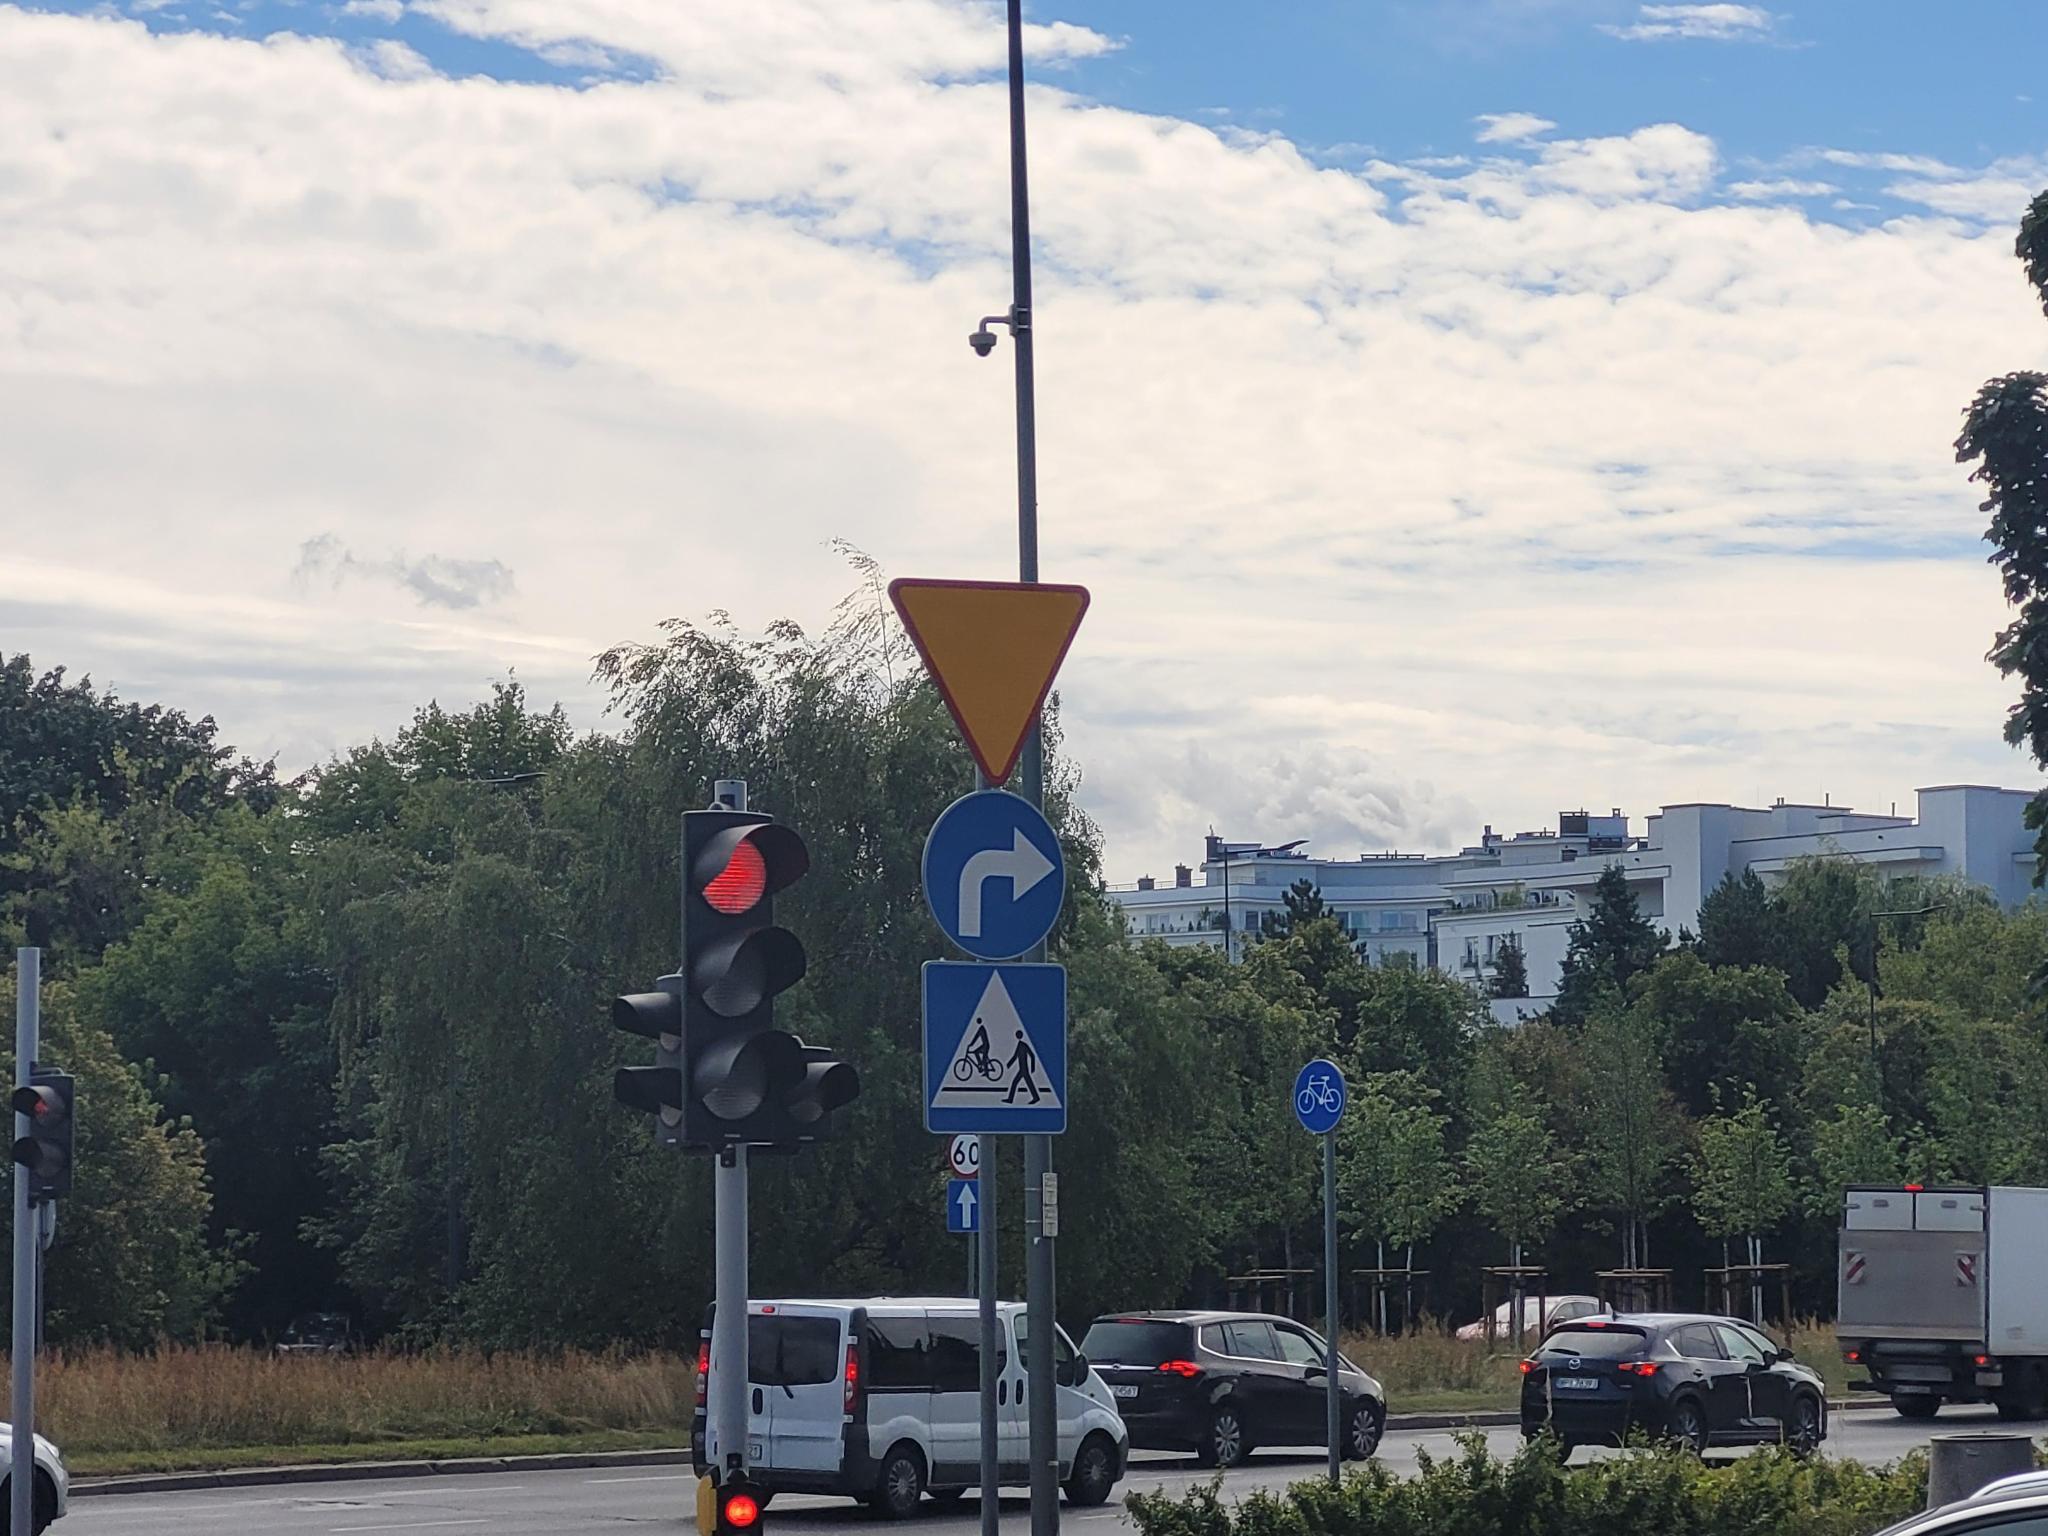information: (922, 962, 1068, 1133), (948, 1181, 980, 1231)
mandatory: (921, 791, 1066, 962), (1293, 1058, 1347, 1133)
prohibitory: (947, 1134, 979, 1178)
warning: (889, 576, 1090, 787)
